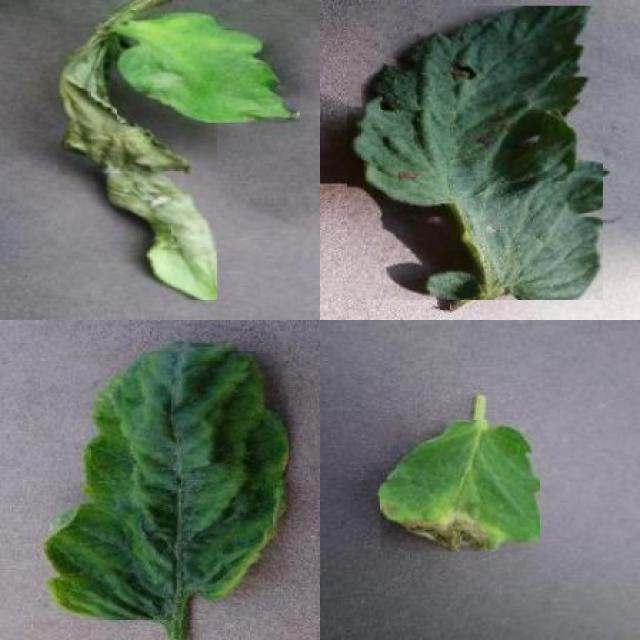Early Blight: (347, 6, 603, 300)
Late Blight: (57, 32, 217, 300), (380, 420, 540, 551), (117, 11, 300, 123)
Yellow Leaf Curl Virus: (44, 340, 289, 620)
